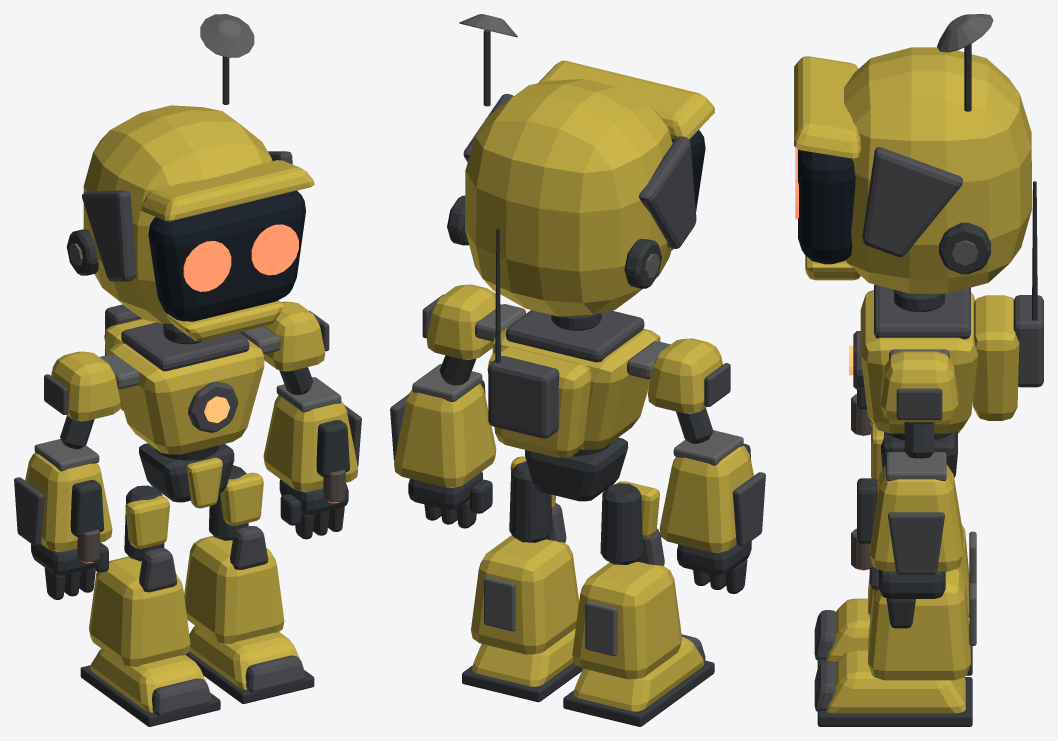
The model's file is batedor.glb.
The picture shows the model from 3 angles, left to right: view 1: azimuth 30°, elevation 25°; view 2: azimuth 150°, elevation 25°; view 3: azimuth 270°, elevation 25°; orthographic projection. The views are drawn at different scales.
Parts seen in each view (by area): view 1: cabeca_p, visor, tronco_p, bota.001, bota, testa, antebraco, antebraco.001, placa_lado.001, ombro_p.001, pe.001, gola (+37 smaller); view 2: cabeca_p, bota.001, bota, antebraco, antebraco.001, tronco_p, radio, mochila, gola, testa, ombro_p.001, pe.001 (+30 smaller); view 3: cabeca_p, bota, placa_lado, visor, tronco_p, testa, pe, antebraco, mochila, gola, ombro_p, bracelete (+26 smaller).
Boxes of the visible parts, box(x1,y1,x2,y2) form: cabeca_p: box(83, 105, 272, 323); visor: box(148, 190, 305, 321); tronco_p: box(109, 332, 264, 454); bota.001: box(89, 556, 190, 666); bota: box(184, 536, 284, 643); testa: box(141, 160, 314, 221); antebraco: box(263, 395, 358, 491); antebraco.001: box(25, 453, 112, 551); placa_lado.001: box(82, 190, 136, 281); ombro_p.001: box(51, 351, 120, 421); pe.001: box(90, 649, 210, 712); gola: box(121, 322, 249, 371); cabeca_p: box(465, 79, 672, 316); bota.001: box(572, 561, 681, 679); bota: box(471, 535, 578, 654); antebraco: box(394, 383, 496, 487); antebraco.001: box(659, 446, 753, 552); tronco_p: box(492, 310, 660, 449); radio: box(488, 356, 559, 438); mochila: box(487, 347, 592, 457); gola: box(506, 310, 644, 362); testa: box(538, 60, 714, 139); ombro_p.001: box(647, 338, 722, 413); pe.001: box(573, 637, 704, 711); cabeca_p: box(844, 47, 1032, 293); bota: box(868, 568, 970, 680); placa_lado: box(862, 147, 962, 256); visor: box(798, 149, 855, 264); tronco_p: box(860, 290, 978, 433); testa: box(794, 56, 861, 158); pe: box(826, 650, 965, 713); antebraco: box(869, 464, 963, 571); mochila: box(973, 295, 1019, 420); gola: box(874, 284, 970, 339); ombro_p: box(880, 351, 958, 421); bracelete: box(888, 512, 944, 574).
Bounding box in the file's own units: 0.692 × 1.27 × 0.4117.
